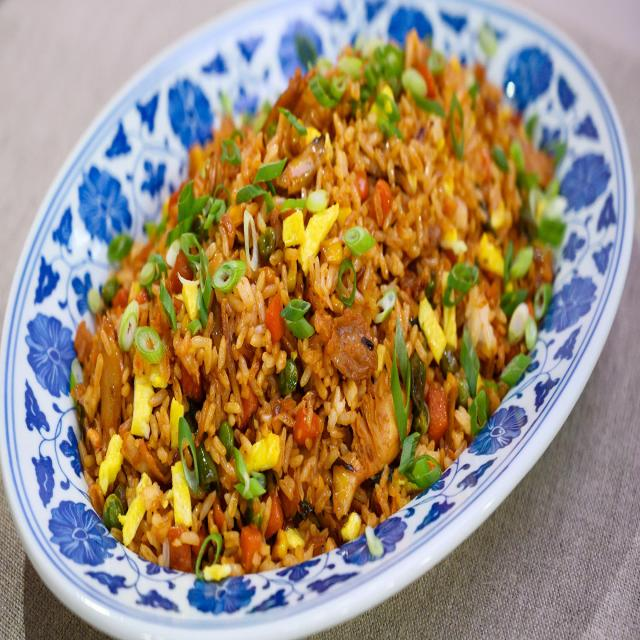Nasi Goreng: (69, 29, 565, 581)
